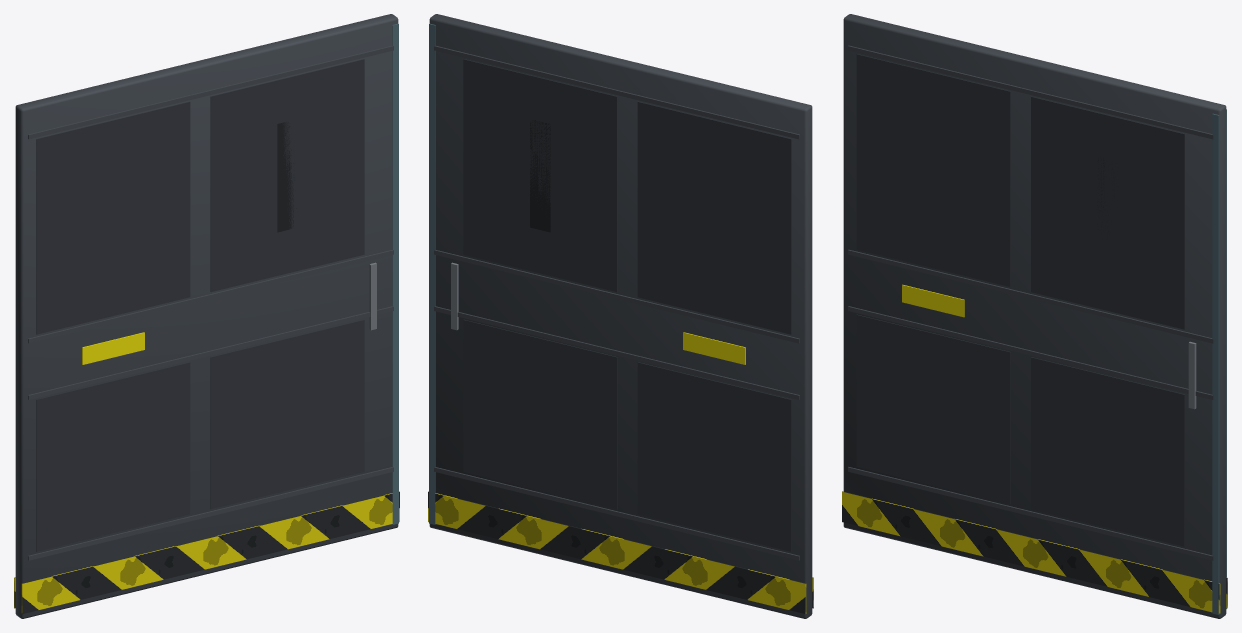
The model's file is door.glb.
3 renders of one model, left to right at view 1: azimuth 30°, elevation 25°; view 2: azimuth 150°, elevation 25°; view 3: azimuth 330°, elevation 25°, orthographic.
Visible parts, largest first — view 1: Body, Door; view 2: Body, Door; view 3: Body, Door.
Part boxes in pixels (box(x1,y1,x2,y2)): Body: box(14, 23, 399, 614); Door: box(15, 14, 398, 618); Body: box(428, 23, 813, 614); Door: box(429, 14, 812, 618); Body: box(842, 45, 1227, 614); Door: box(843, 14, 1226, 618).
Bounding box in the file's own units: 1.82 × 2.35 × 0.086.
7 materials, 1 textured.
